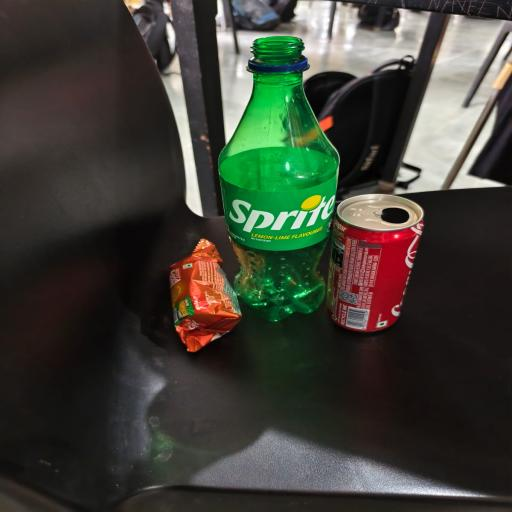Sprite: (219, 36, 339, 321)
coca_cola: (328, 195, 423, 331)
goodday: (169, 239, 241, 351)
